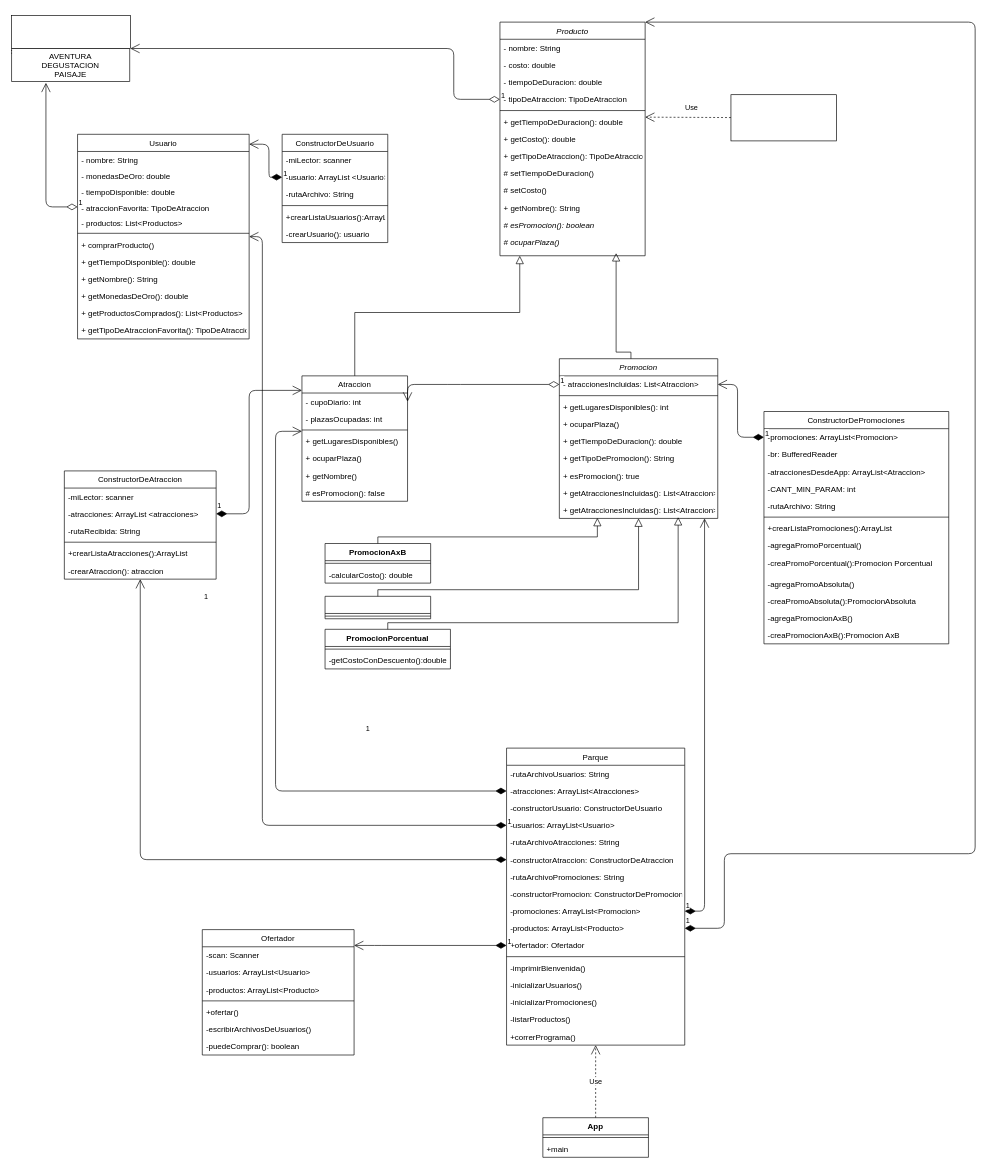
Image size: 998x1171. Some labels were removed from this diagram. Here are the shapes that lost their labels. From the top down, the centre of each, then its label:
(x=70, y=32): «enum» TipoDeAtraccion
(x=783, y=117): «comparator» ProductosPorPreferencia
(x=377, y=607): PromocionAbsoluta
